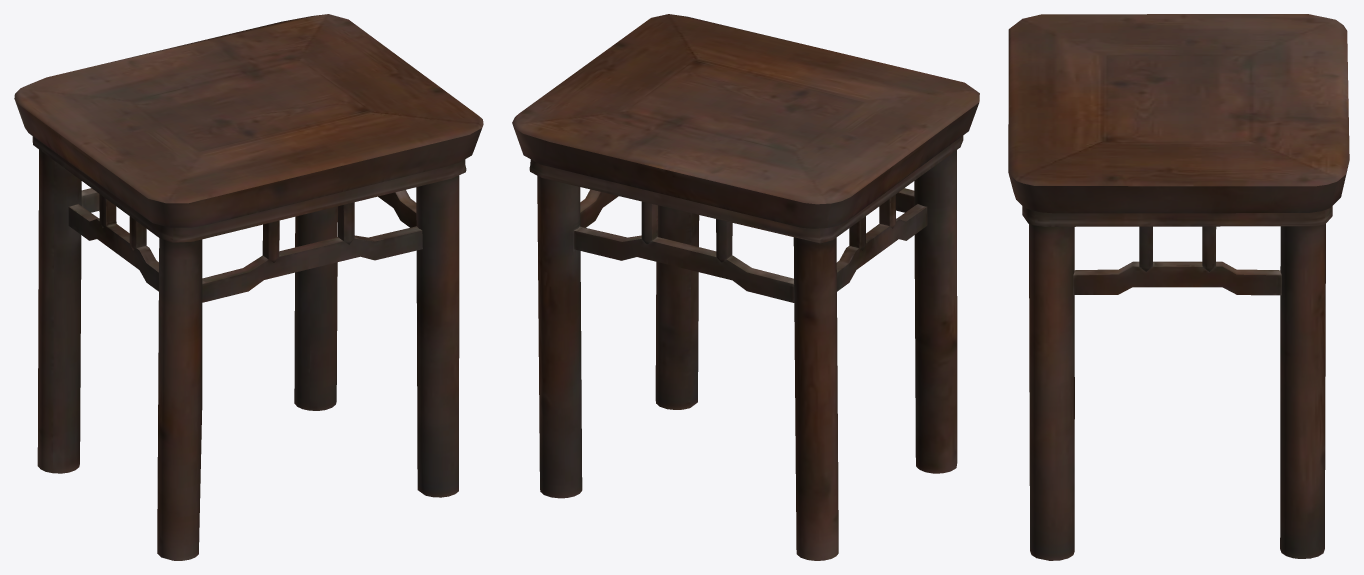
The model's file is chinese_stool.glb.
The picture shows the model from 3 angles, left to right: view 1: azimuth 30°, elevation 25°; view 2: azimuth 150°, elevation 25°; view 3: azimuth 270°, elevation 25°; orthographic projection. The views are drawn at different scales.
Parts seen in each view (by area): view 1: chinese_stool; view 2: chinese_stool; view 3: chinese_stool.
Part boxes in pixels (<box>): chinese_stool: <box>14,14,483,560</box>; chinese_stool: <box>512,14,979,560</box>; chinese_stool: <box>1008,14,1349,560</box>.
Bounding box in the file's own units: 0.5957 × 0.6306 × 0.5036.
Materials: 1 (1 with a texture image).
